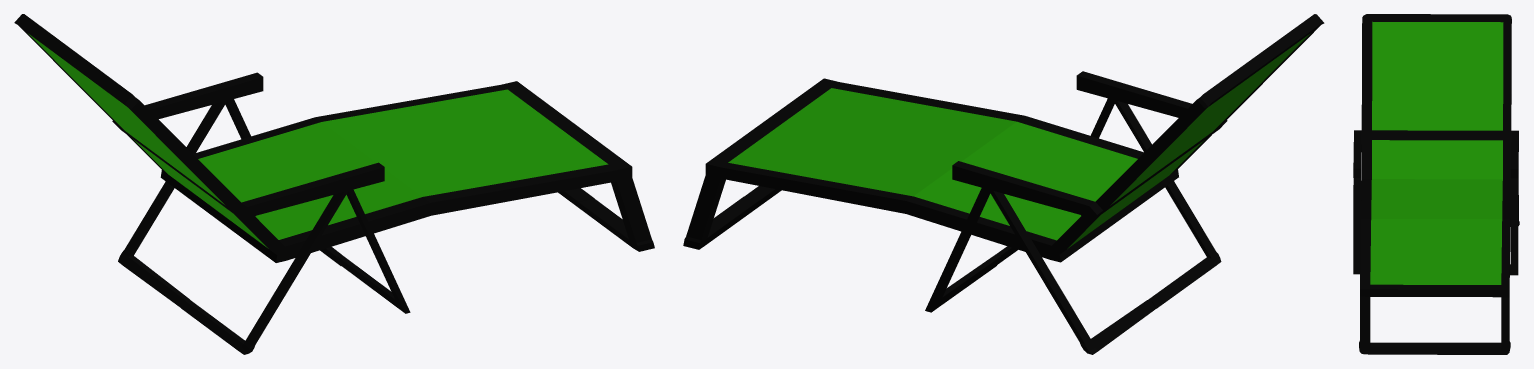
The model's file is LawnChair_SH.fbx.
The picture shows the model from 3 angles, left to right: view 1: azimuth 30°, elevation 25°; view 2: azimuth 150°, elevation 25°; view 3: azimuth 270°, elevation 25°; orthographic projection. The views are drawn at different scales.
Parts seen in each view (by area): view 1: LawnChair_SH; view 2: LawnChair_SH; view 3: LawnChair_SH.
Boxes of the visible parts, box(x1,y1,x2,y2) form: LawnChair_SH: box(14, 14, 654, 354); LawnChair_SH: box(683, 14, 1324, 354); LawnChair_SH: box(1353, 14, 1519, 354).
Size of the model in its own units: 220 by 111 by 93.75.
